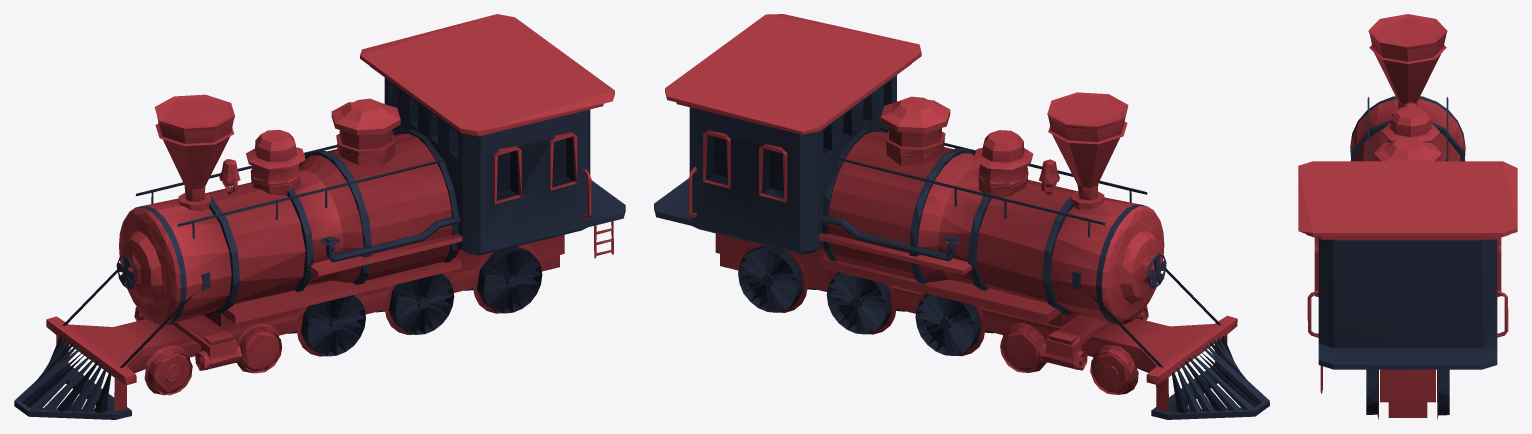
File: train-loco.glb
The picture shows the model from 3 angles, left to right: view 1: azimuth 30°, elevation 25°; view 2: azimuth 150°, elevation 25°; view 3: azimuth 270°, elevation 25°; orthographic projection. The views are drawn at different scales.
Parts seen in each view (by area): view 1: train-loco; view 2: train-loco; view 3: train-loco.
Boxes of the visible parts, x1,y1,x2,y2 form: train-loco: (14, 14, 625, 419); train-loco: (654, 14, 1269, 419); train-loco: (1298, 14, 1517, 419).
Bounding box in the file's own units: 7.45 × 3.3 × 2.64.
